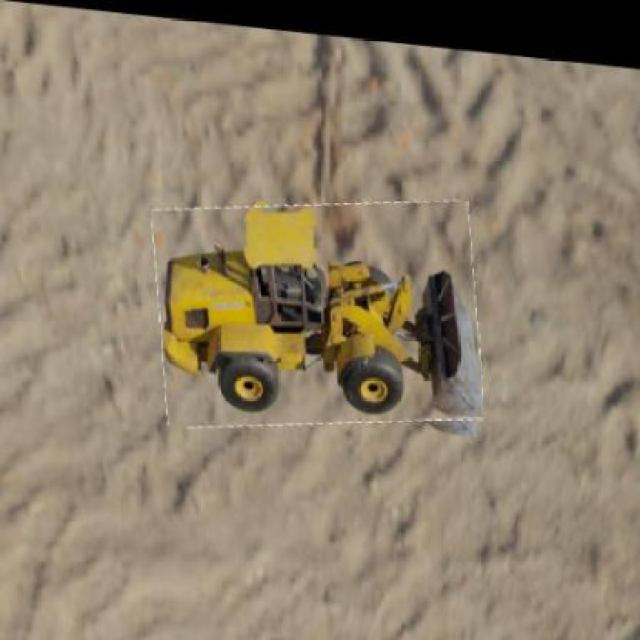buldozerpayloadergrader: (155, 205, 483, 421)
